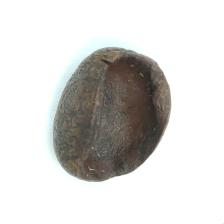NG: (85, 55, 172, 181)
